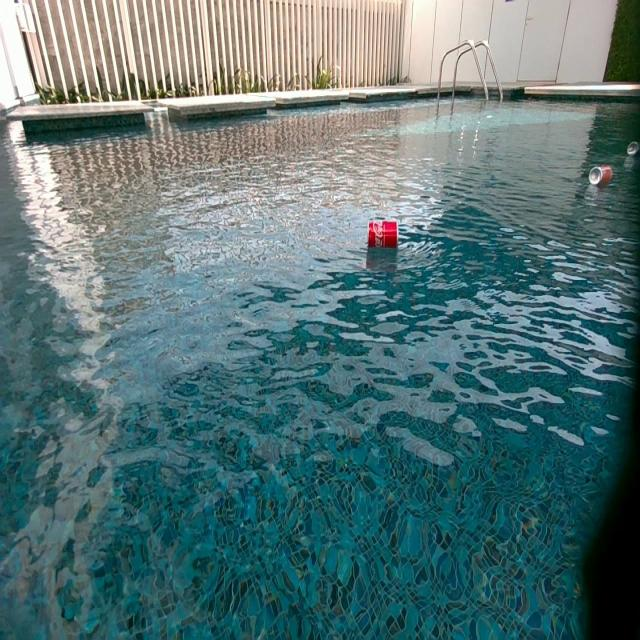Cans: (368, 222, 398, 249), (589, 166, 613, 188), (627, 141, 640, 156)
